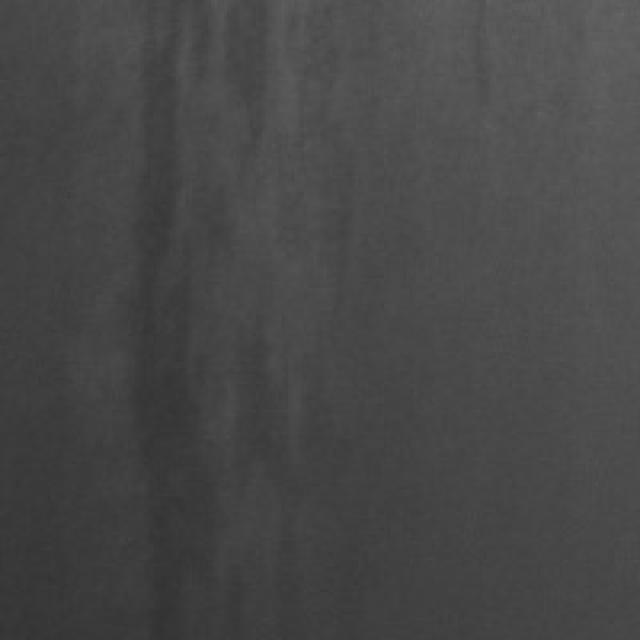inclusion: (122, 0, 291, 627)
